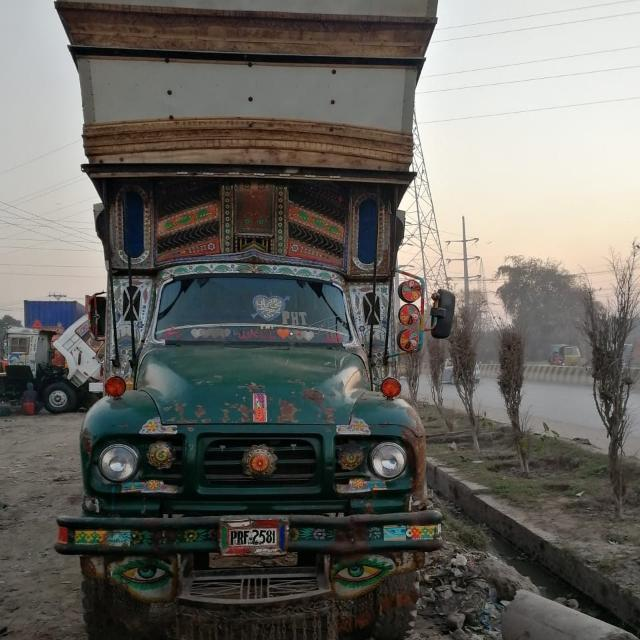plate: (220, 522, 282, 544)
